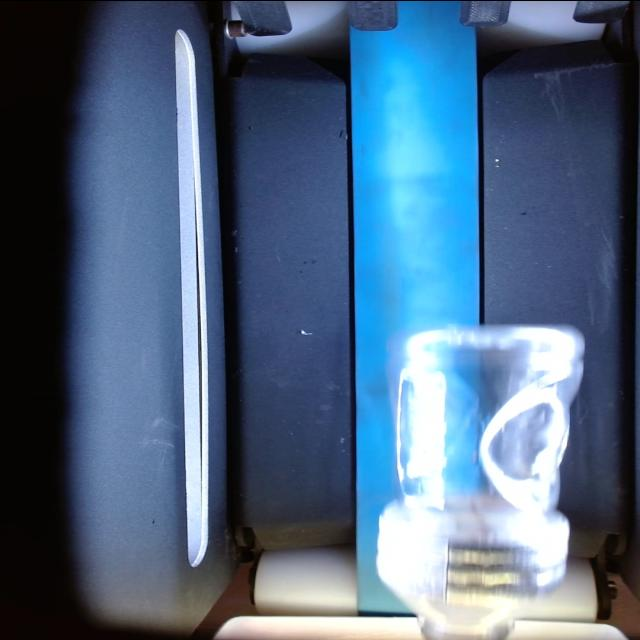bottle: (378, 325, 583, 640)
